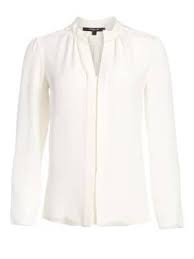S_blouse: (16, 15, 188, 231)
